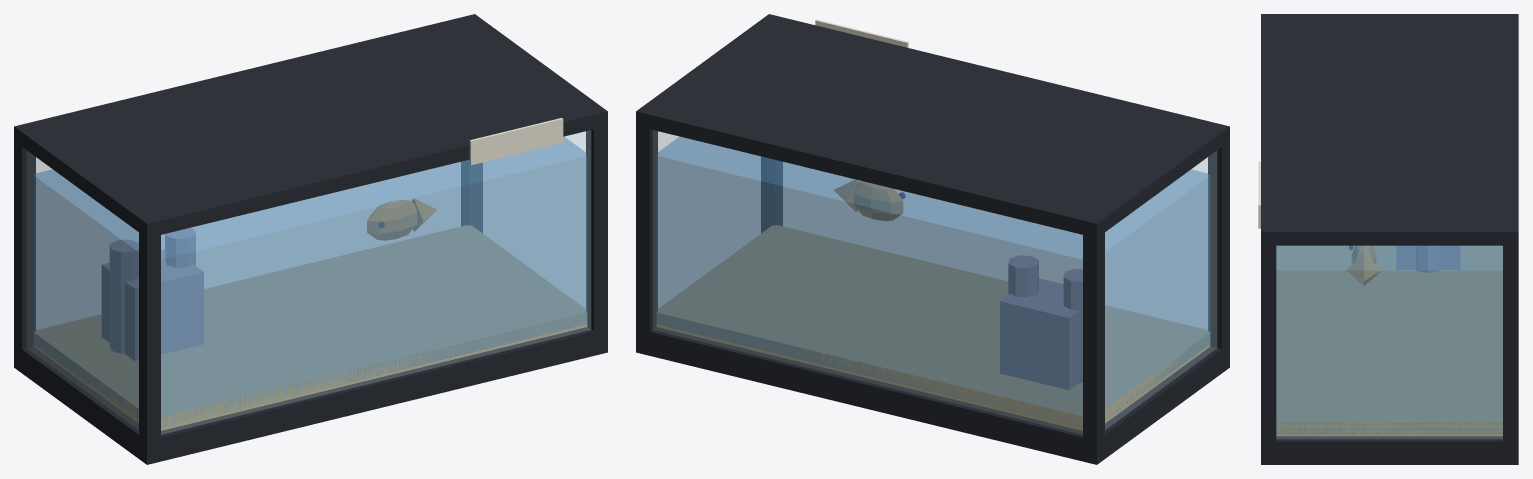
Rendered from stolen_aquarium.glb.
3 renders of one model, left to right at view 1: azimuth 30°, elevation 25°; view 2: azimuth 150°, elevation 25°; view 3: azimuth 270°, elevation 25°, orthographic. The views are drawn at different scales.
Parts seen in each view (by area): view 1: glass_tank_glass, water_tank_water, base_tank_frame, gravel_tank_gravel, frame_tank_frame, castle_tank_castle, label_tank_label, fish_goldfish; view 2: glass_tank_glass, water_tank_water, base_tank_frame, gravel_tank_gravel, frame_tank_frame, castle_tank_castle, fish_goldfish, label_tank_label; view 3: base_tank_frame, glass_tank_glass, water_tank_water, gravel_tank_gravel, frame_tank_frame, castle_tank_castle, fish_goldfish.
Boxes of the visible parts, x1,y1,x2,y2 form: glass_tank_glass: [27, 130, 590, 434]; water_tank_water: [34, 137, 586, 427]; base_tank_frame: [14, 14, 607, 464]; gravel_tank_gravel: [33, 225, 587, 430]; frame_tank_frame: [14, 123, 607, 452]; castle_tank_castle: [102, 228, 203, 360]; label_tank_label: [469, 118, 563, 165]; fish_goldfish: [367, 199, 436, 240]; glass_tank_glass: [653, 130, 1216, 434]; water_tank_water: [657, 137, 1209, 423]; base_tank_frame: [636, 14, 1229, 464]; gravel_tank_gravel: [656, 225, 1210, 430]; frame_tank_frame: [636, 124, 1229, 451]; castle_tank_castle: [1000, 255, 1082, 389]; fish_goldfish: [834, 179, 902, 220]; label_tank_label: [815, 19, 908, 47]; base_tank_frame: [1261, 14, 1518, 464]; glass_tank_glass: [1276, 246, 1502, 438]; water_tank_water: [1276, 246, 1502, 433]; gravel_tank_gravel: [1276, 246, 1502, 436]; frame_tank_frame: [1261, 244, 1518, 453]; castle_tank_castle: [1396, 246, 1460, 272]; fish_goldfish: [1346, 246, 1381, 285].
Bounding box in the file's own units: 2 × 1.02 × 1.01.
